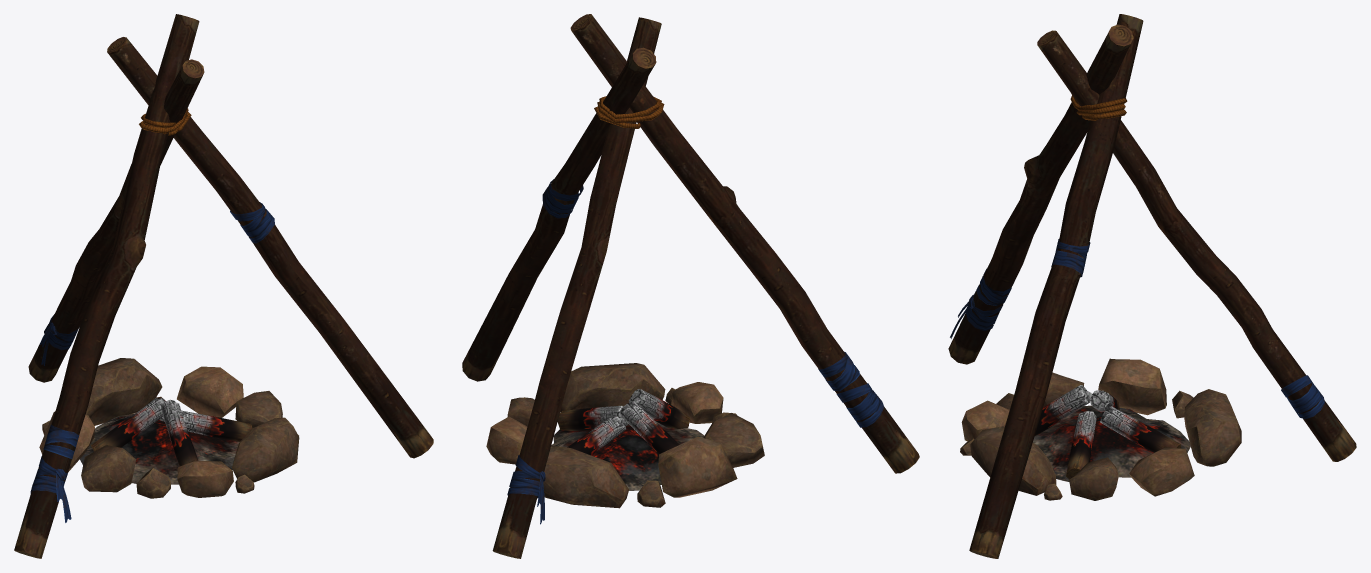
Rendered from CampFire.fbx.
The picture shows the model from 3 angles, left to right: view 1: azimuth 30°, elevation 25°; view 2: azimuth 150°, elevation 25°; view 3: azimuth 270°, elevation 25°; orthographic projection. The views are drawn at different scales.
Visible parts, largest first — view 1: SM_Campsite_fire02_LOD0; view 2: SM_Campsite_fire02_LOD0; view 3: SM_Campsite_fire02_LOD0.
Boxes of the visible parts, bbox=[...] form: SM_Campsite_fire02_LOD0: bbox=[14, 14, 433, 558]; SM_Campsite_fire02_LOD0: bbox=[462, 14, 919, 558]; SM_Campsite_fire02_LOD0: bbox=[948, 14, 1356, 558].
Size of the model in its own units: 251 by 246 by 203.
